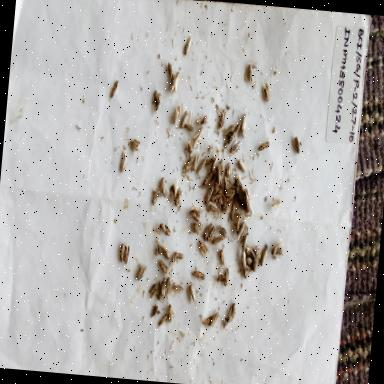pbw: (235, 179, 248, 214), (238, 112, 252, 141), (254, 134, 272, 156), (241, 192, 255, 220), (117, 150, 130, 180), (244, 248, 257, 278), (205, 221, 219, 248), (234, 220, 248, 247), (171, 100, 184, 128), (134, 256, 148, 282), (227, 296, 240, 324), (258, 242, 270, 272), (180, 140, 197, 160), (244, 59, 257, 85), (182, 120, 196, 144), (109, 77, 121, 105), (198, 306, 212, 330), (173, 246, 188, 268), (238, 252, 249, 282), (188, 208, 204, 228), (178, 108, 190, 134), (180, 153, 193, 177), (181, 36, 194, 60), (170, 70, 182, 96), (216, 106, 228, 132), (234, 154, 248, 176), (216, 222, 232, 241), (157, 174, 169, 199), (292, 133, 304, 158), (192, 126, 206, 147), (190, 267, 207, 284), (170, 282, 186, 300), (203, 182, 215, 206), (189, 150, 201, 174), (262, 81, 273, 107), (222, 122, 236, 142), (270, 192, 284, 212), (158, 244, 172, 264), (168, 182, 180, 205), (174, 186, 185, 211), (196, 242, 211, 260), (157, 260, 172, 278), (192, 219, 206, 238), (151, 184, 162, 208), (228, 202, 238, 228), (213, 160, 223, 186), (199, 220, 212, 240), (201, 170, 214, 190), (272, 246, 286, 264), (228, 142, 242, 160), (211, 232, 225, 250), (158, 223, 172, 241), (118, 242, 128, 267), (237, 234, 248, 256), (148, 279, 160, 299), (148, 302, 160, 322), (195, 158, 207, 178), (205, 201, 219, 218), (210, 189, 222, 208), (165, 302, 175, 324), (234, 212, 244, 234), (209, 311, 220, 331), (152, 88, 162, 110), (215, 269, 226, 289), (186, 282, 196, 304), (156, 312, 168, 330), (210, 154, 220, 175), (224, 162, 234, 182), (123, 245, 132, 267), (167, 60, 176, 82), (152, 242, 164, 258), (160, 279, 168, 303), (170, 250, 178, 274), (218, 250, 228, 268), (222, 200, 232, 218), (222, 266, 230, 288), (195, 114, 208, 127), (217, 157, 225, 178), (165, 276, 172, 299), (252, 254, 260, 274), (214, 102, 225, 116), (130, 144, 142, 156), (204, 157, 215, 168), (225, 189, 235, 201), (130, 138, 142, 147)
